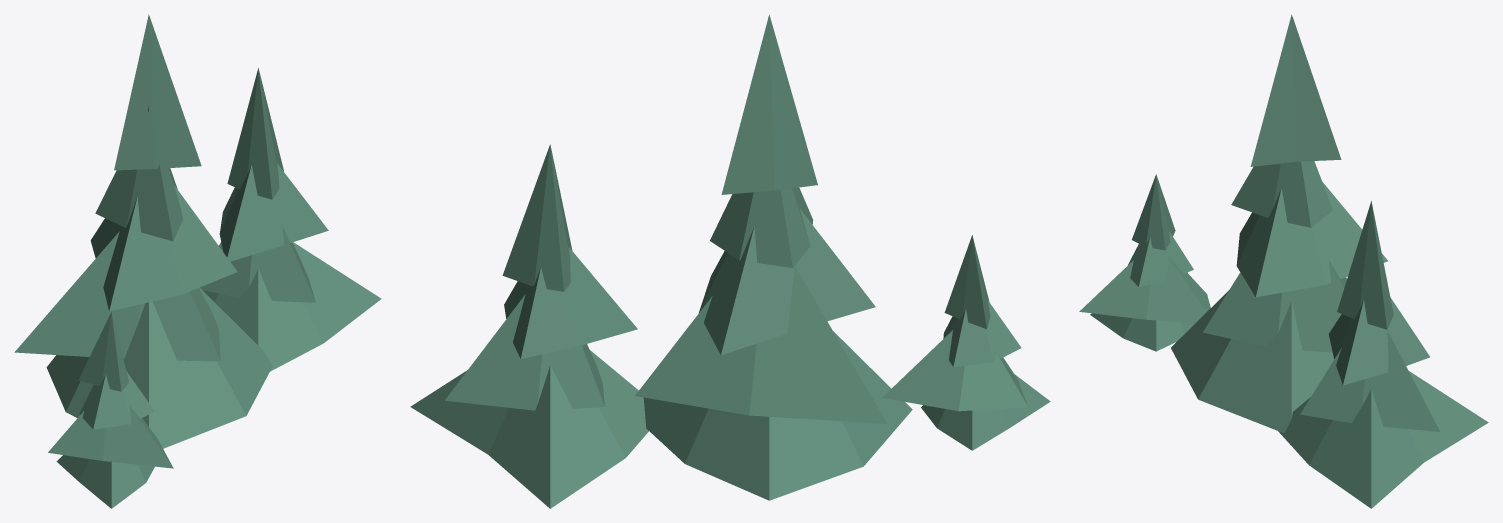
File: temperate-forest-ecology-spruce-seedling-group-ec5eb655__3814.glb
The picture shows the model from 3 angles, left to right: view 1: azimuth 30°, elevation 25°; view 2: azimuth 150°, elevation 25°; view 3: azimuth 270°, elevation 25°; orthographic projection. The views are drawn at different scales.
Parts seen in each view (by area): view 1: spruce-seedling-group; view 2: spruce-seedling-group; view 3: spruce-seedling-group.
Boxes of the visible parts, x1,y1,x2,y2 form: spruce-seedling-group: (14,14,381,508); spruce-seedling-group: (410,14,1050,508); spruce-seedling-group: (1079,14,1488,508).
Bounding box in the file's own units: 1.22 × 1.02 × 1.03.
